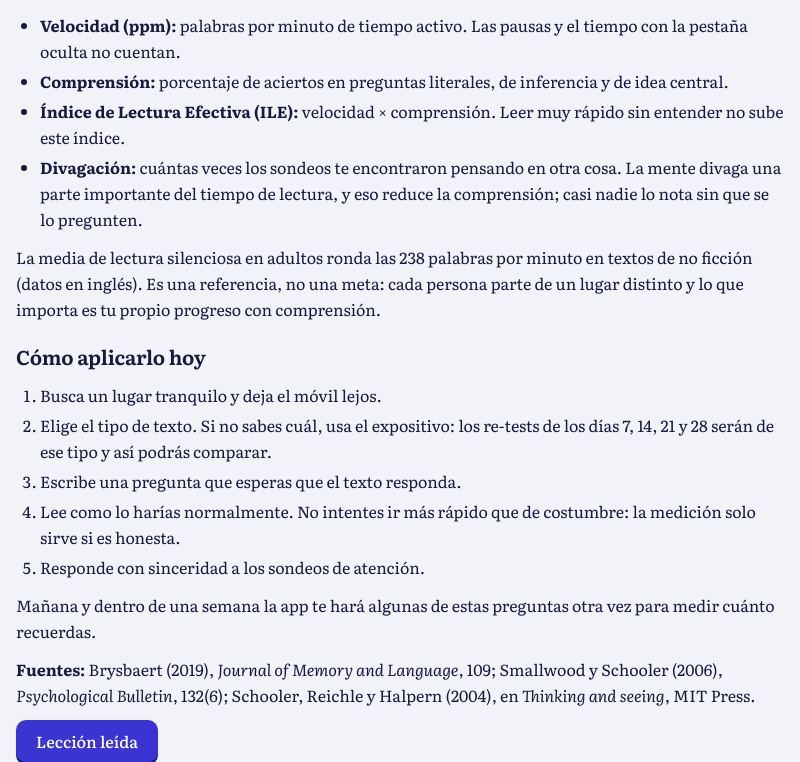
DayView › el día 1 tiene un solo encabezado principal
(page scrolled)
Step 1. Click the button "Lección leída" → [87, 741], box [16,720,158,761]
(page scrolled)
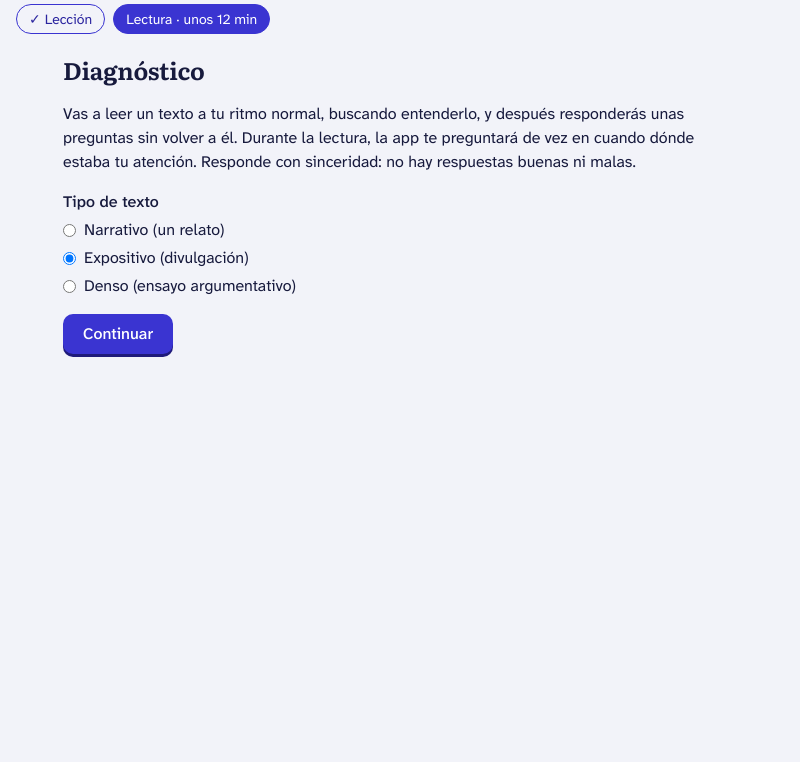
Expected: the text "Vas a leer un texto a tu ritmo normal, buscando entenderlo, y después responderás unas preguntas sin volver a él. Durant" is shown, [63,103,694,172]
